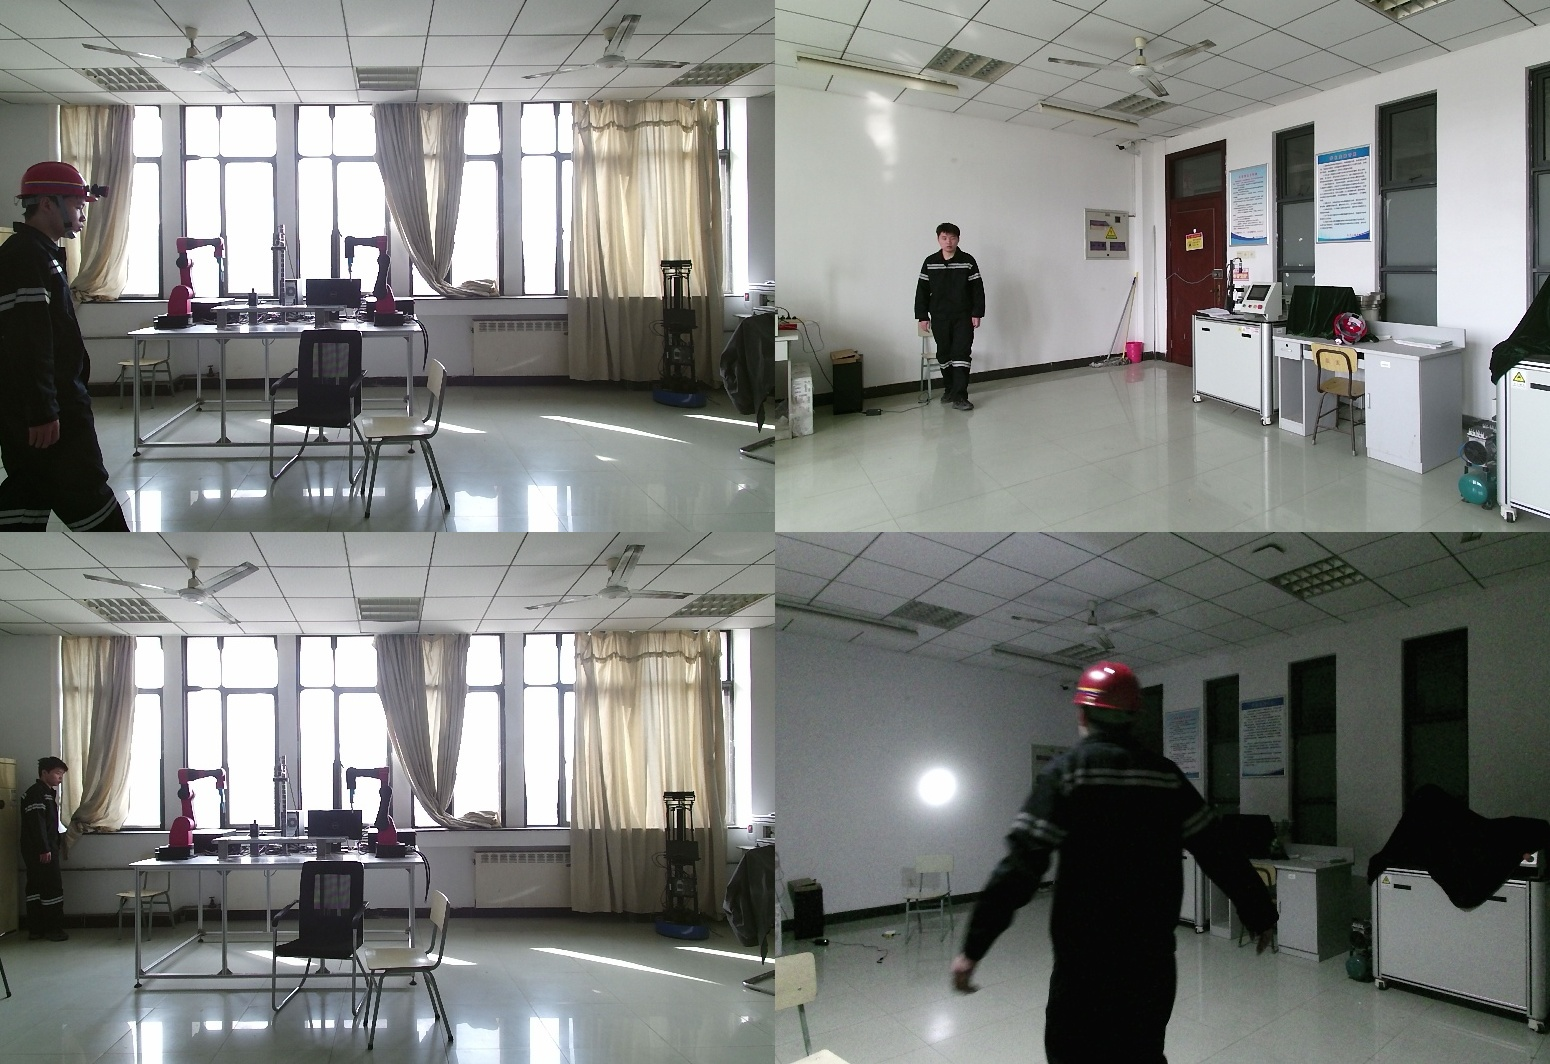person: (941, 658, 1300, 1064), (1, 163, 131, 532), (910, 225, 984, 412), (11, 760, 69, 940)
